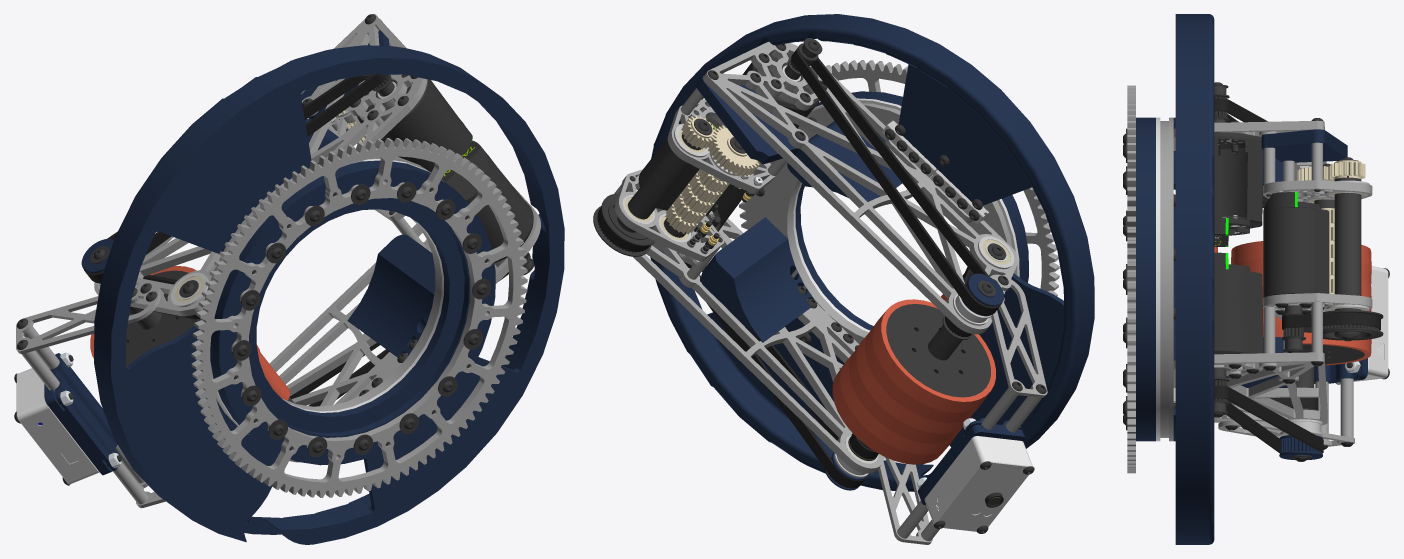
3 renders of one model, left to right at view 1: azimuth 30°, elevation 25°; view 2: azimuth 150°, elevation 25°; view 3: azimuth 270°, elevation 25°, orthographic. The views are drawn at different scales.
Parts seen in each view (by area): view 1: W26-ST-P007, W26-ST-3DP011, W26-ST-3DP001, W26-ST-3DP013, W26-ST-3DP012, W26-ST-P011 (×2), W26-ST-3DP014, W26-ST-3DP004, id2382, W26-ST-3DP020, Kraken X60 Brushless Motor <1>, 184 Tooth x 9mm GT2 3mm Belt (×2) (+8 smaller); view 2: W26-ST-P011 (×2), W26-ST-3DP011, 4" Stealth Wheel (40A, 1/2" Hex Bore) (×3), W26-ST-3DP012, 184 Tooth x 9mm GT2 3mm Belt (×2), W26-ST-3DP004, id2382, W26-ST-3DP013, W26-ST-3DP014, W26-ST-P014 (×2), W26-ST-P010 (×2), W26-ST-P003 (+17 smaller); view 3: W26-ST-3DP014, W26-ST-3DP012, W26-ST-P011 (×2), W26-ST-3DP001, Kraken X44 Brushless Motor <1>, Kraken X60 Brushless Motor <1>, Kraken X60 Brushless Motor, W26-ST-P007, 184 Tooth x 9mm GT2 3mm Belt (×2), 1/2" Hex Bore Custom Spacer (0.75" OD,0.5" L) (×6), W26-ST-P010 (×2), W26-ST-P002 (+15 smaller).
Part boxes in pixels (box(x1,y1,x2,y2)): W26-ST-P007: box(191, 138, 527, 497); W26-ST-3DP011: box(94, 124, 259, 481); W26-ST-3DP001: box(210, 160, 495, 465); W26-ST-3DP013: box(135, 412, 465, 544); W26-ST-3DP012: box(192, 45, 525, 200); W26-ST-P011 (×2): box(94, 14, 540, 462); W26-ST-3DP014: box(431, 122, 564, 466); W26-ST-3DP004: box(347, 234, 435, 357); id2382: box(16, 368, 99, 484); W26-ST-3DP020: box(44, 353, 121, 475); Kraken X60 Brushless Motor <1>: box(357, 74, 472, 172); 184 Tooth x 9mm GT2 3mm Belt (×2): box(84, 74, 528, 406); W26-ST-P011 (×2): box(633, 42, 1017, 473); W26-ST-3DP011: box(937, 90, 1094, 430); 4" Stealth Wheel (40A, 1/2" Hex Bore) (×3): box(832, 299, 995, 464); W26-ST-3DP012: box(682, 14, 1000, 168); 184 Tooth x 9mm GT2 3mm Belt (×2): box(684, 47, 1001, 488); W26-ST-3DP004: box(701, 217, 813, 342); id2382: box(924, 436, 1032, 531); W26-ST-3DP013: box(739, 331, 1056, 491); W26-ST-3DP014: box(650, 88, 810, 415); W26-ST-P014 (×2): box(878, 274, 1047, 544); W26-ST-P010 (×2): box(614, 99, 776, 261); W26-ST-P003: box(747, 103, 1009, 343); W26-ST-3DP014: box(1173, 236, 1214, 541); W26-ST-3DP012: box(1173, 14, 1214, 236); W26-ST-P011 (×2): box(1173, 120, 1327, 424); W26-ST-3DP001: box(1136, 117, 1155, 441); Kraken X44 Brushless Motor <1>: box(1263, 192, 1329, 297); Kraken X60 Brushless Motor <1>: box(1214, 132, 1263, 246); Kraken X60 Brushless Motor: box(1214, 252, 1263, 369); W26-ST-P007: box(1127, 85, 1135, 473); 184 Tooth x 9mm GT2 3mm Belt (×2): box(1214, 98, 1323, 453); 1/2" Hex Bore Custom Spacer (0.75" OD,0.5" L) (×6): box(1334, 193, 1361, 295); W26-ST-P010 (×2): box(1263, 180, 1372, 319); W26-ST-P002: box(1160, 121, 1168, 437).
Size of what is drawn, in the model's own units: 0.4003 by 0.3826 by 0.1923.
